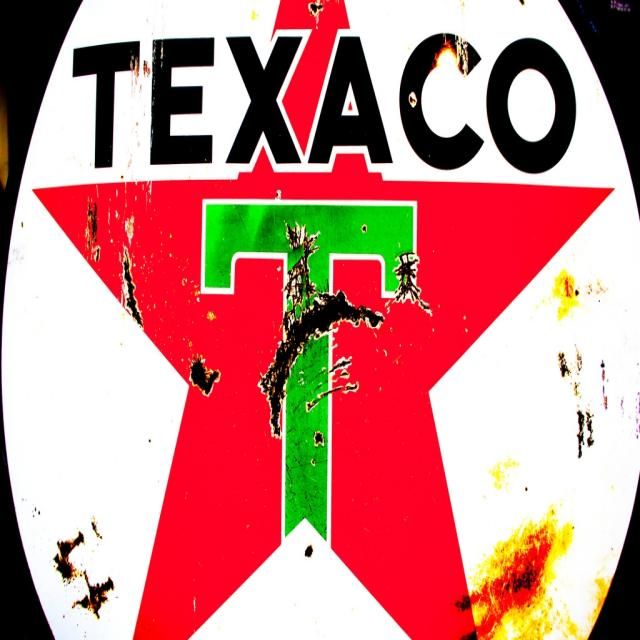texaco: (2, 2, 640, 640)
